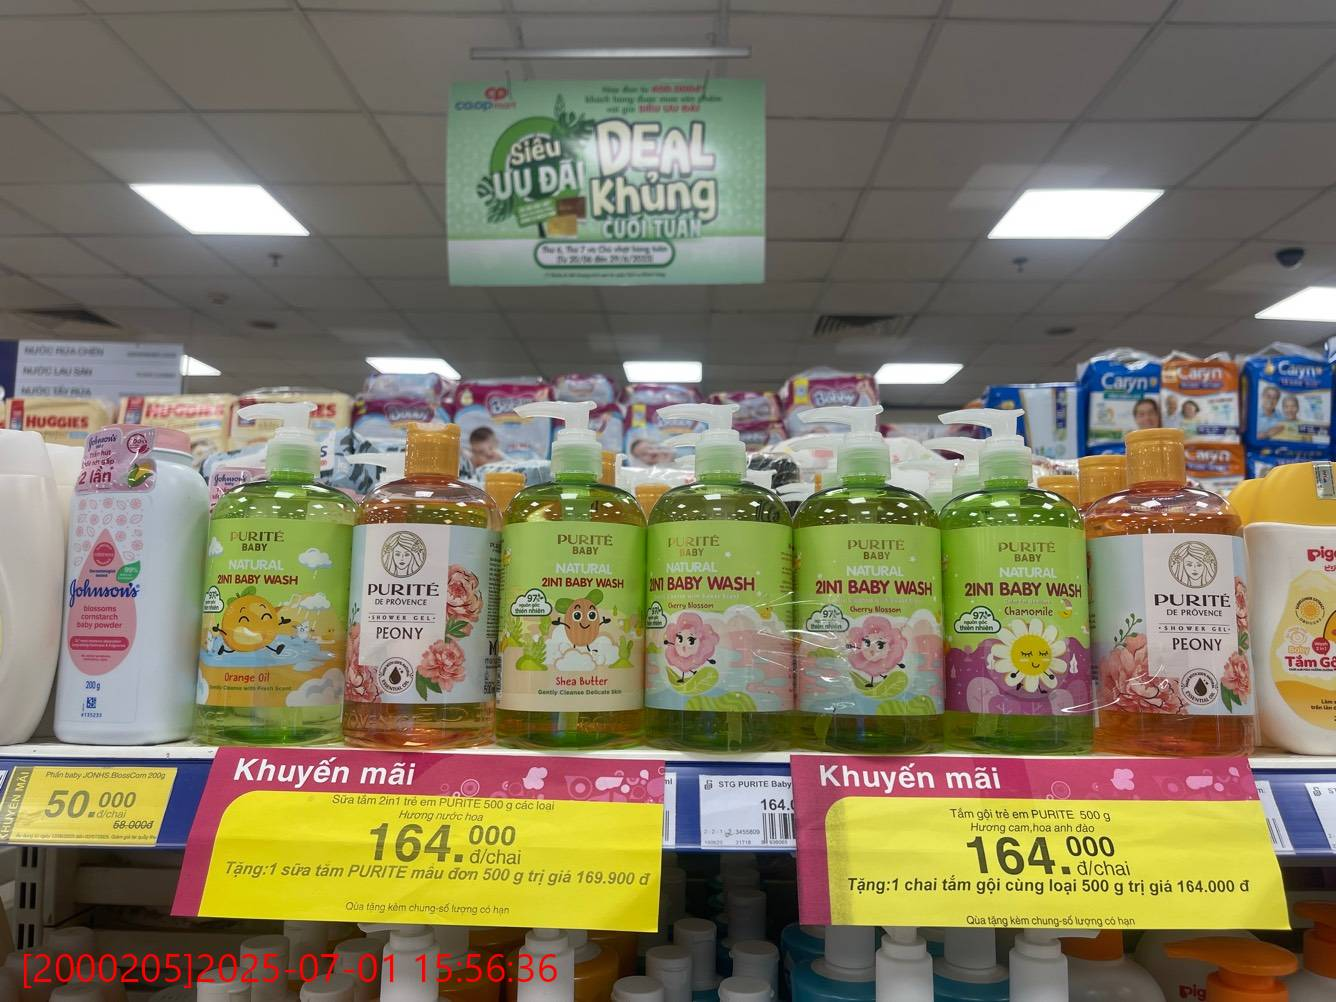pricetag_discount: (175, 737, 669, 936), (783, 749, 1283, 942), (1, 759, 179, 850)
